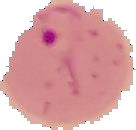parasitized: (16, 4, 130, 125), (33, 4, 83, 63)
